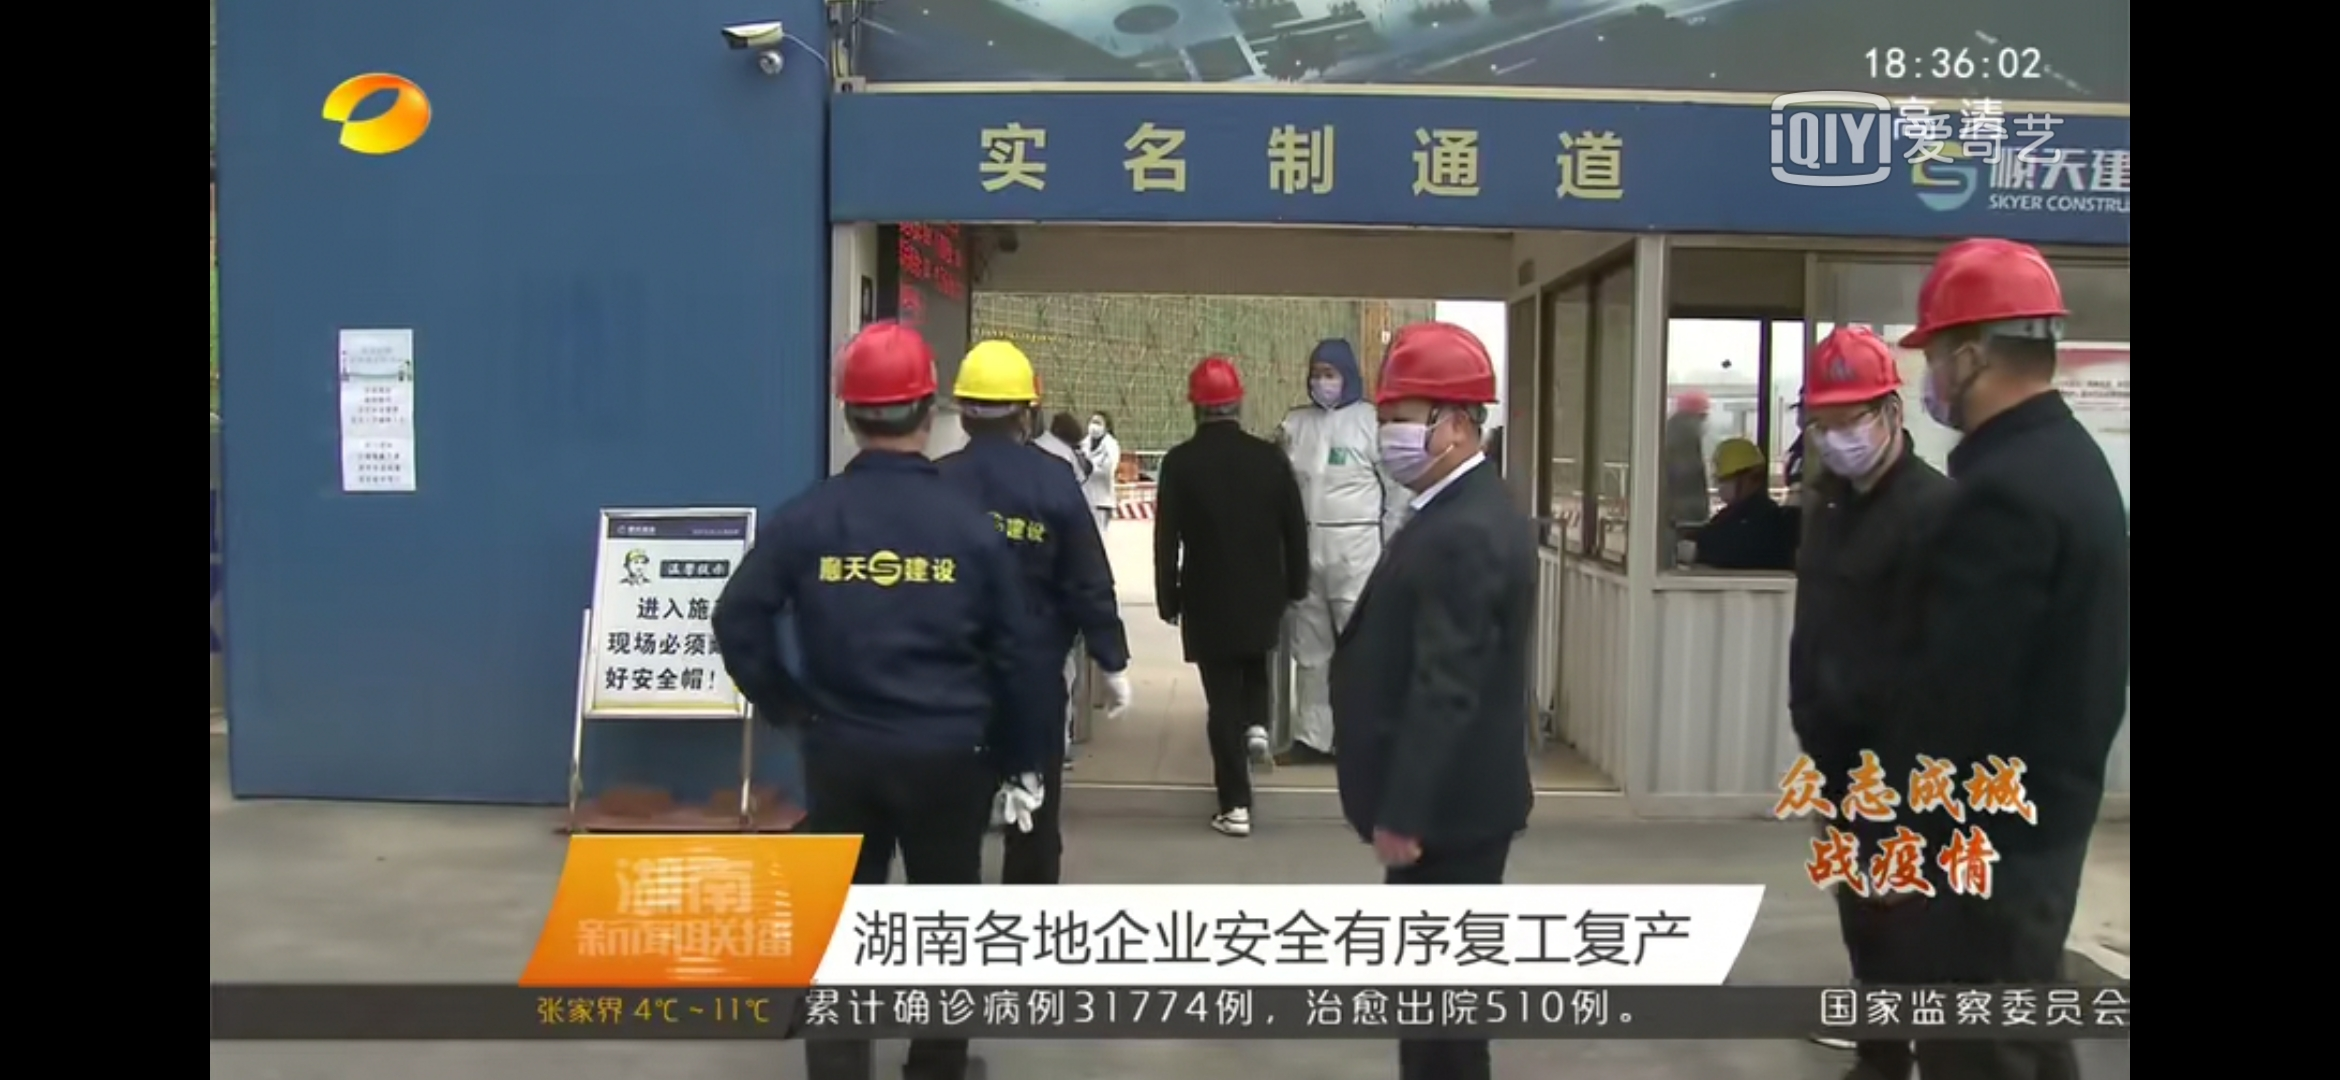correctlyWear: (1915, 307, 2061, 433), (1371, 368, 1476, 489), (1792, 395, 1904, 480), (1706, 456, 1777, 507), (1306, 354, 1357, 415), (1089, 418, 1109, 448)
